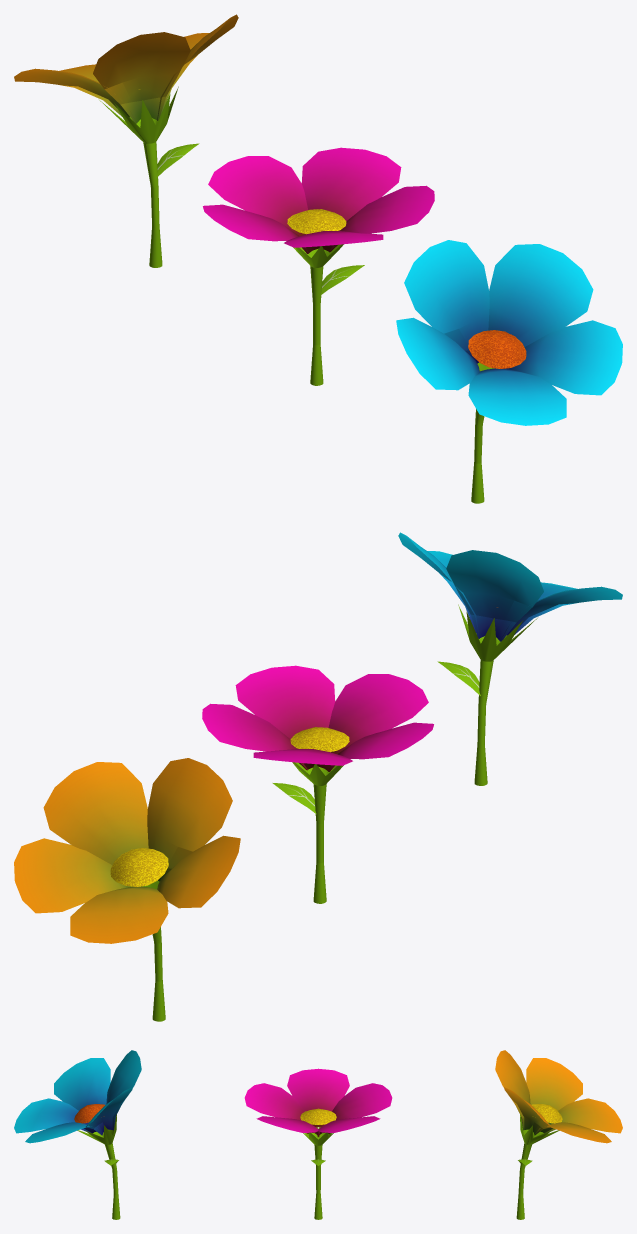
Rendered from flores.glb.
3 views of the same model, one above another, from view 1: azimuth 30°, elevation 25°; view 2: azimuth 150°, elevation 25°; view 3: azimuth 270°, elevation 25° (orthographic). The views are drawn at different scales.
Parts seen in each view (by area): view 1: Mesh (3), Mesh (2), Mesh_flor3_0; view 2: Mesh_flor3_0, Mesh (2), Mesh (3); view 3: Mesh (2), Mesh (3), Mesh_flor3_0.
Part boxes in pixels (x1,y1,x2,y2): Mesh (3): (396, 240, 622, 503); Mesh (2): (203, 147, 434, 385); Mesh_flor3_0: (14, 14, 238, 267); Mesh_flor3_0: (14, 758, 240, 1021); Mesh (2): (202, 665, 433, 903); Mesh (3): (398, 532, 622, 785); Mesh (2): (244, 1068, 392, 1219); Mesh (3): (14, 1050, 141, 1219); Mesh_flor3_0: (495, 1050, 622, 1219).
Size of the model in its own units: 116 by 138 by 486.
Materials: 3 (3 with a texture image).
